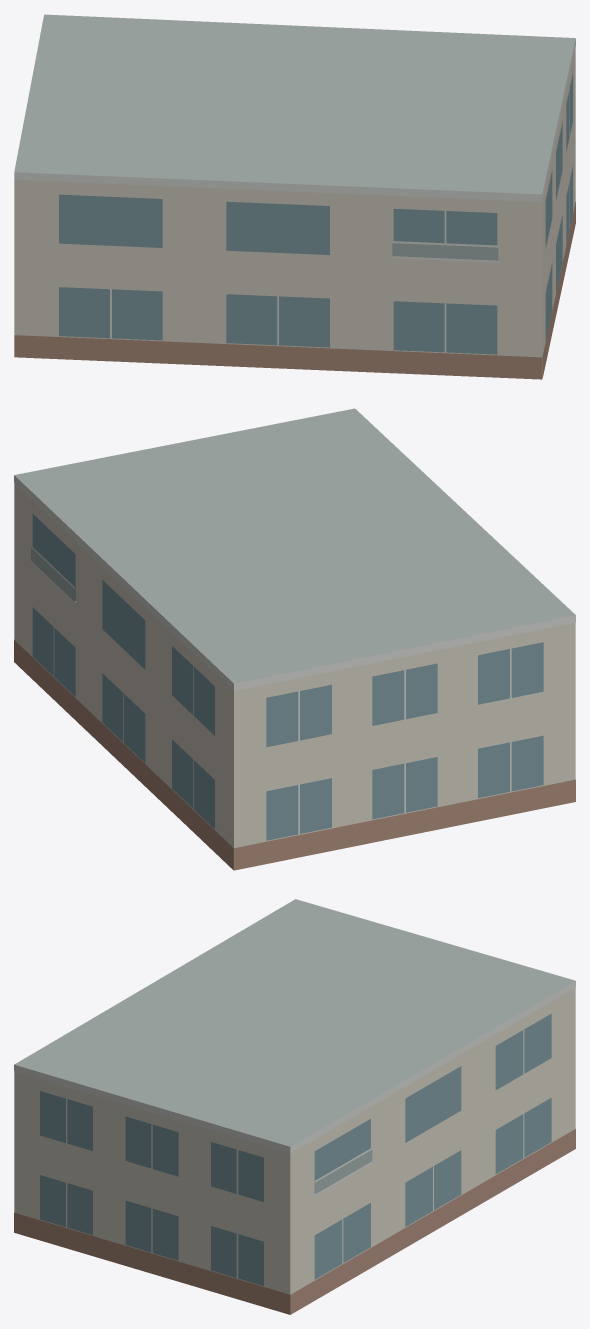
File: survey-upis-32719342.glb
3 views of the same model, one above another, from view 1: azimuth 30°, elevation 25°; view 2: azimuth 150°, elevation 25°; view 3: azimuth 270°, elevation 25° (orthographic). The views are drawn at different scales.
Visible parts, largest first — view 1: survey-upis-32719342.tmp; view 2: survey-upis-32719342.tmp; view 3: survey-upis-32719342.tmp.
Boxes of the visible parts, left/top/right/bottom form: survey-upis-32719342.tmp: left=14, top=14, right=575, bottom=379; survey-upis-32719342.tmp: left=14, top=408, right=575, bottom=870; survey-upis-32719342.tmp: left=14, top=899, right=575, bottom=1314.
Bounding box in the file's own units: 17.08 × 5.4 × 16.36.
